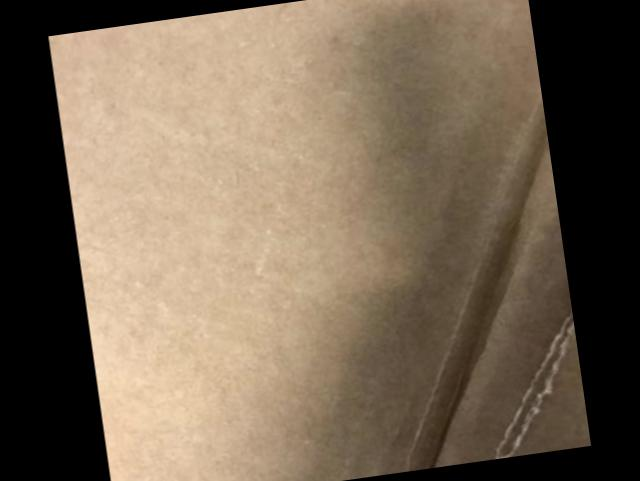cardboard paper: (48, 0, 592, 481)
